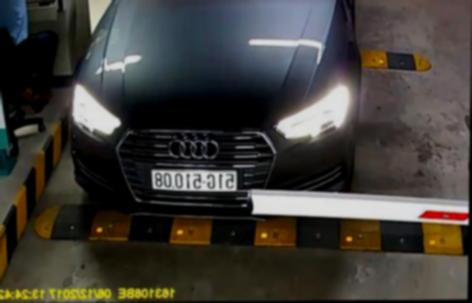License_Plate: (148, 166, 243, 194)
